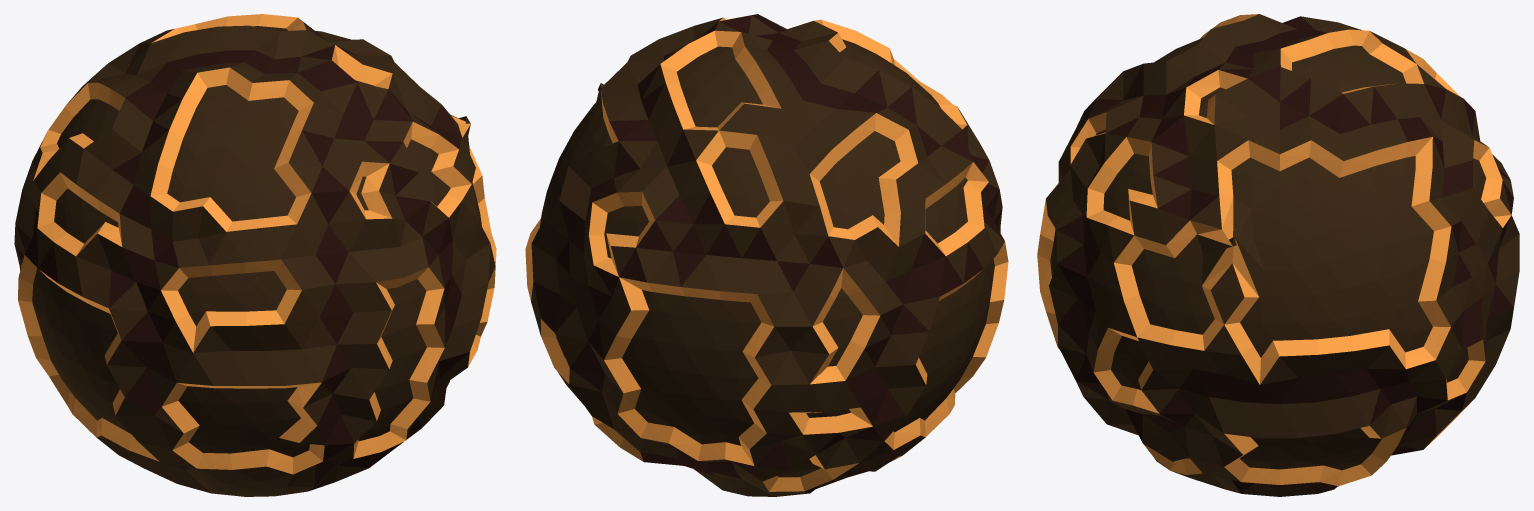
Rendered from Yechin.obj.
3 views of the same model, side by side, from view 1: azimuth 30°, elevation 25°; view 2: azimuth 150°, elevation 25°; view 3: azimuth 270°, elevation 25° (orthographic).
Parts seen in each view (by area): view 1: Icosphere.004_Icosphere.011; view 2: Icosphere.004_Icosphere.011; view 3: Icosphere.004_Icosphere.011.
Part boxes in pixels (bbox=[...]): Icosphere.004_Icosphere.011: bbox=[14, 14, 496, 496]; Icosphere.004_Icosphere.011: bbox=[525, 14, 1008, 496]; Icosphere.004_Icosphere.011: bbox=[1037, 14, 1519, 496].
Size of the model in its own units: 163 by 161 by 163.
